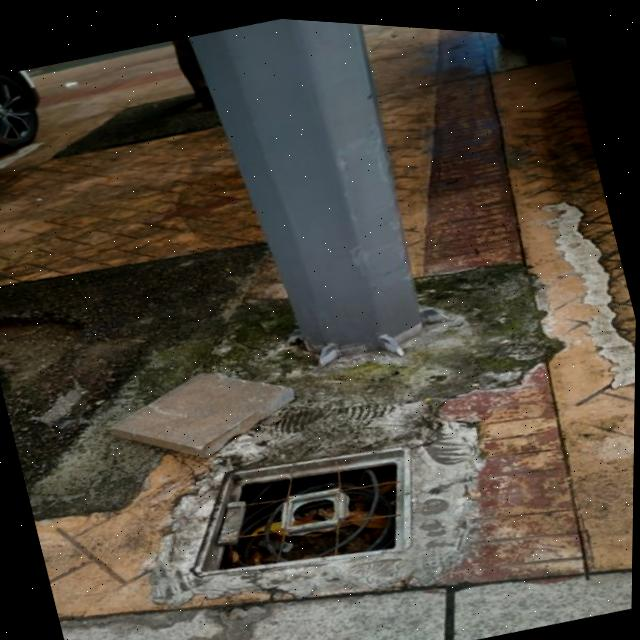manhole: (161, 407, 455, 612)
